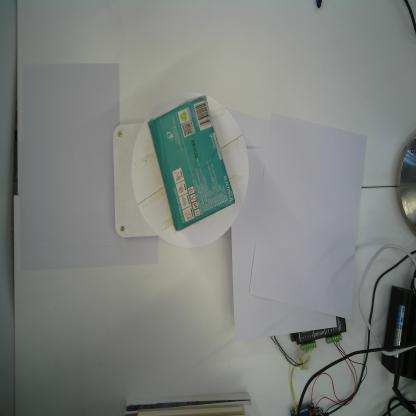Tissue: (146, 93, 236, 234)
